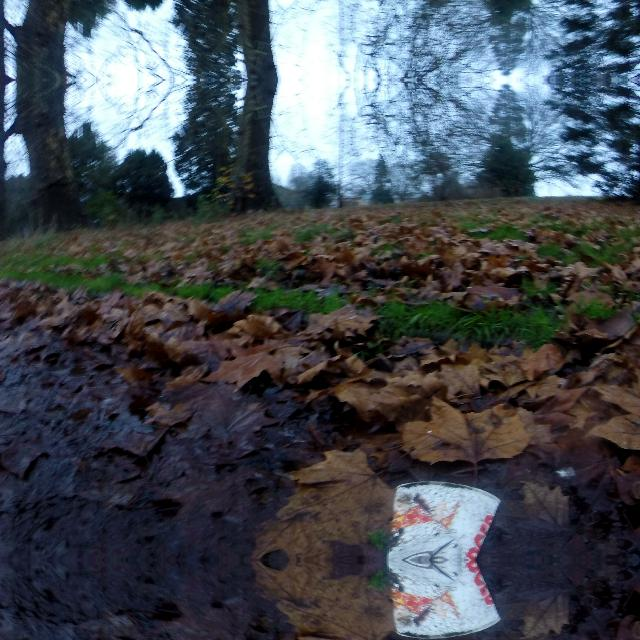Paper: (376, 475, 506, 559), (376, 561, 505, 640)
